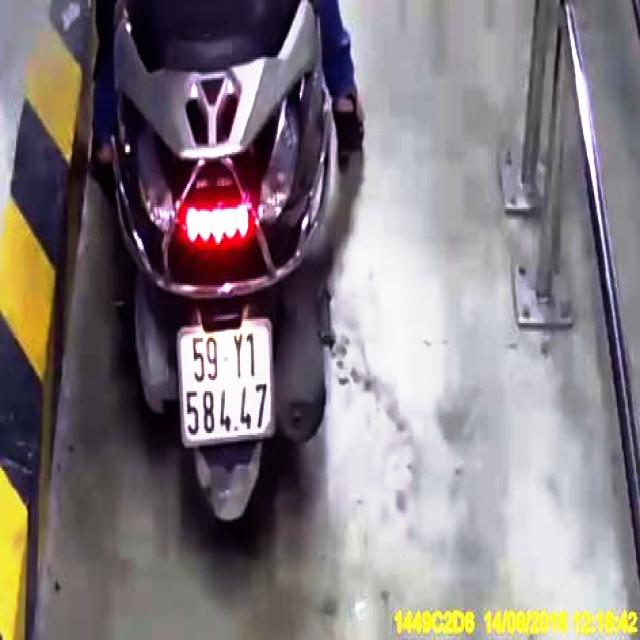license_plate: (178, 320, 272, 447)
